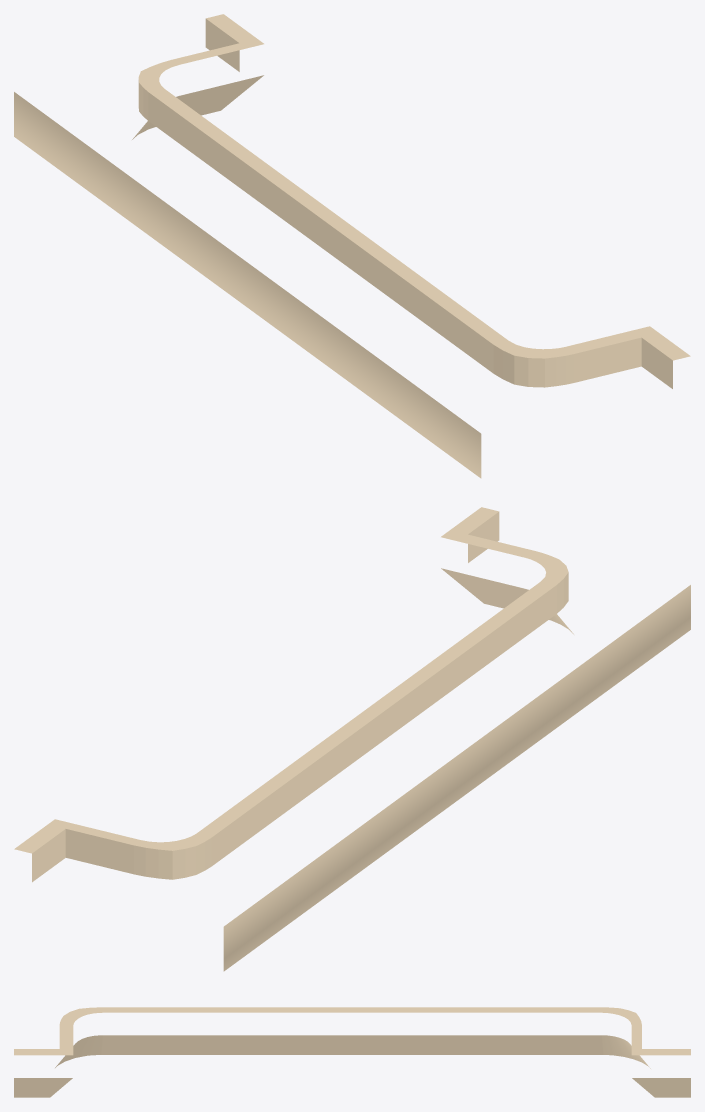
Rendered from ConferenceRoom19.gltf.
3 views of the same model, one above another, from view 1: azimuth 30°, elevation 25°; view 2: azimuth 150°, elevation 25°; view 3: azimuth 270°, elevation 25° (orthographic). The views are drawn at different scales.
Visible parts, largest first — view 1: 室内-缓台; view 2: 室内-缓台; view 3: 室内-缓台.
Part boxes in pixels (x1,y1,x2,y2): 室内-缓台: (14,14,690,478); 室内-缓台: (14,507,690,971); 室内-缓台: (14,1007,690,1097).
Bounding box in the file's own units: 5.9 × 1.93 × 22.8.
